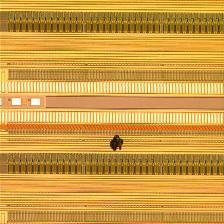PARTICLE: (108, 134, 128, 154)
